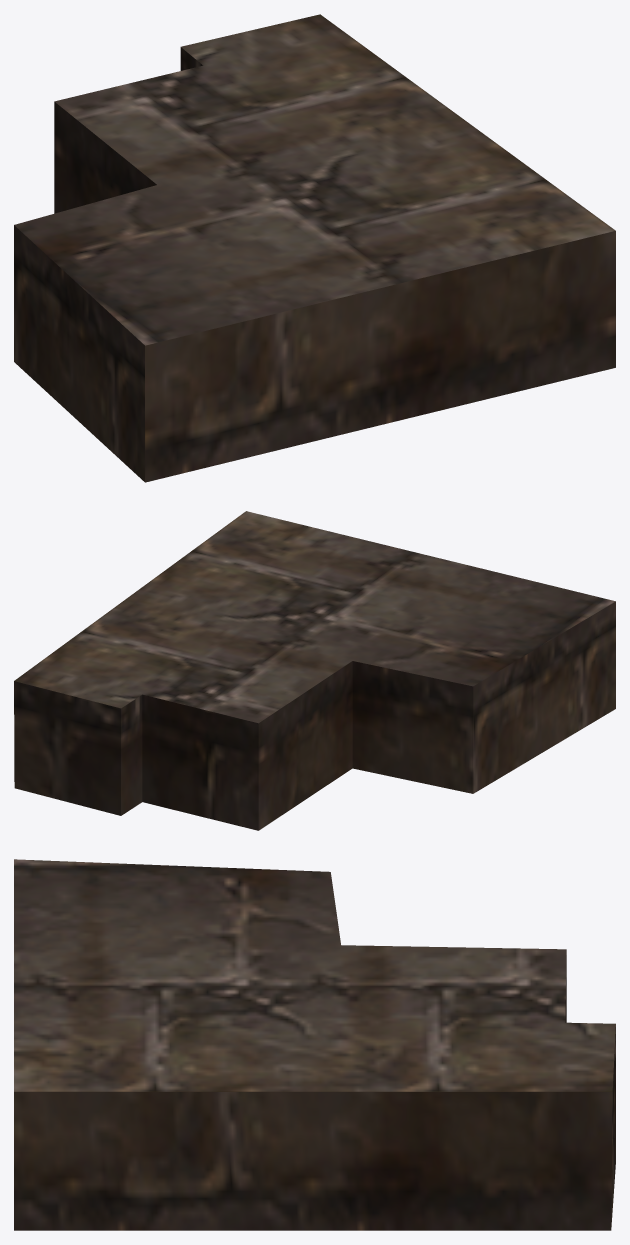
Rendered from blsd_4suishi_10.FBX.
3 renders of one model, top to bottom at view 1: azimuth 30°, elevation 25°; view 2: azimuth 150°, elevation 25°; view 3: azimuth 270°, elevation 25°, orthographic. The views are drawn at different scales.
Visible parts, largest first — view 1: blsd_4suishi_10; view 2: blsd_4suishi_10; view 3: blsd_4suishi_10.
Part boxes in pixels (x1,y1,x2,y2): blsd_4suishi_10: (14, 14, 615, 482); blsd_4suishi_10: (14, 511, 615, 830); blsd_4suishi_10: (14, 859, 615, 1230).
Bounding box in the file's own units: 132 × 36.66 × 144.
